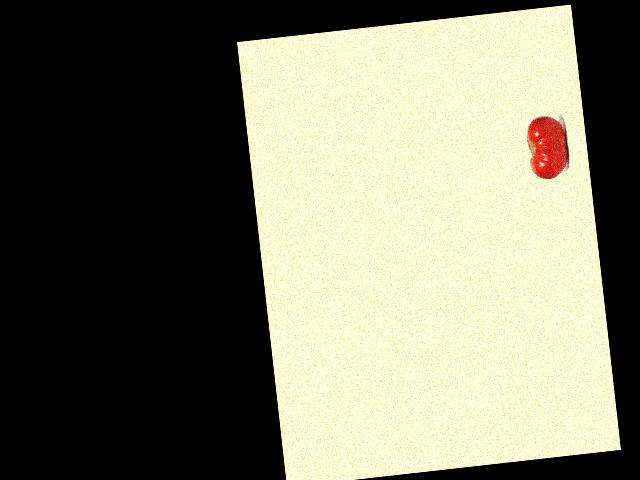tomato: (524, 114, 570, 181)
